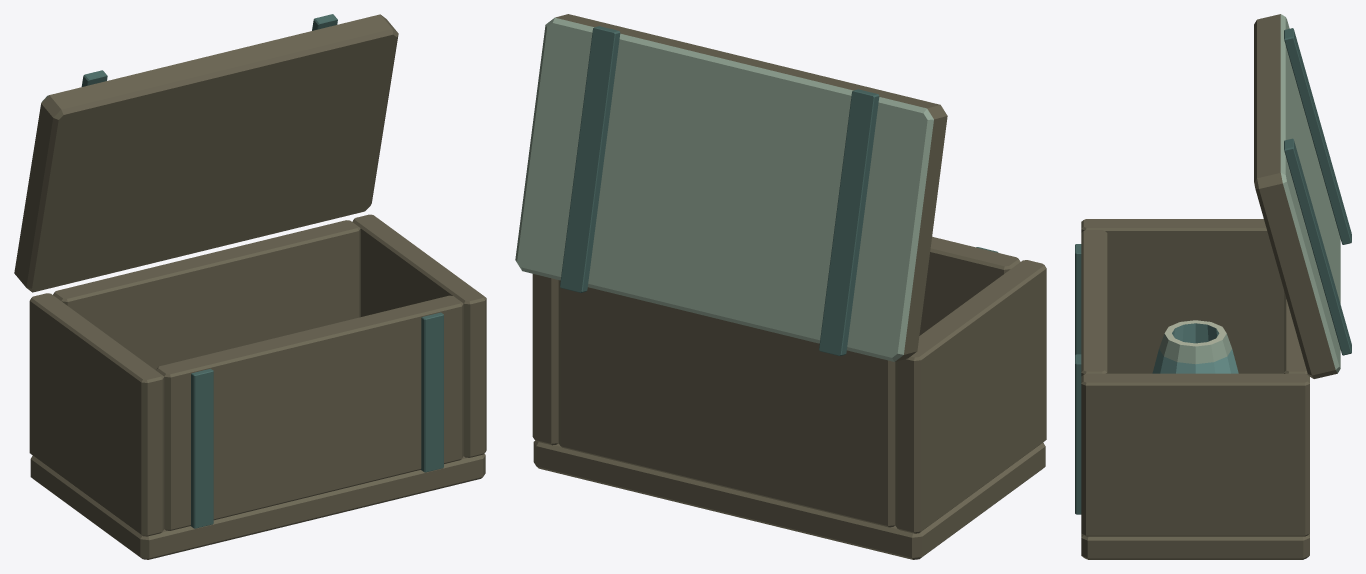
File: supply-cache-open.glb
The picture shows the model from 3 angles, left to right: view 1: azimuth 30°, elevation 25°; view 2: azimuth 150°, elevation 25°; view 3: azimuth 270°, elevation 25°; orthographic projection. The views are drawn at different scales.
Parts seen in each view (by area): view 1: supply-cache-open__body; view 2: supply-cache-open__body; view 3: supply-cache-open__body.
Boxes of the visible parts, box(x1,y1,x2,y2) form: supply-cache-open__body: box(14, 14, 486, 559); supply-cache-open__body: box(515, 14, 1046, 559); supply-cache-open__body: box(1075, 14, 1351, 559).
Bounding box in the file's own units: 1.2 × 1.32 × 0.8464.
